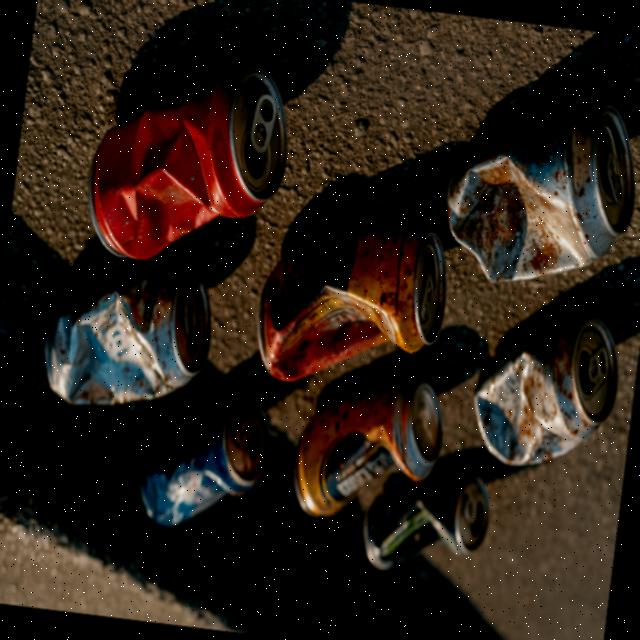aluminum: (69, 42, 298, 278), (252, 214, 454, 406), (36, 256, 218, 428), (463, 300, 627, 487)
